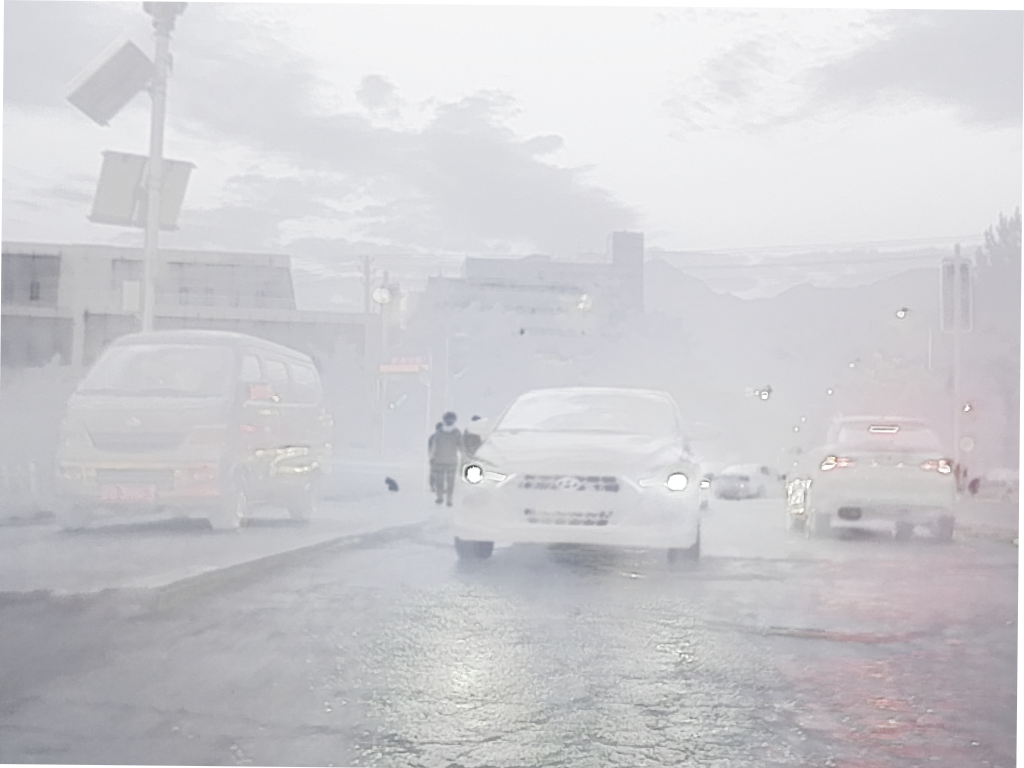person: (434, 411, 463, 508)
